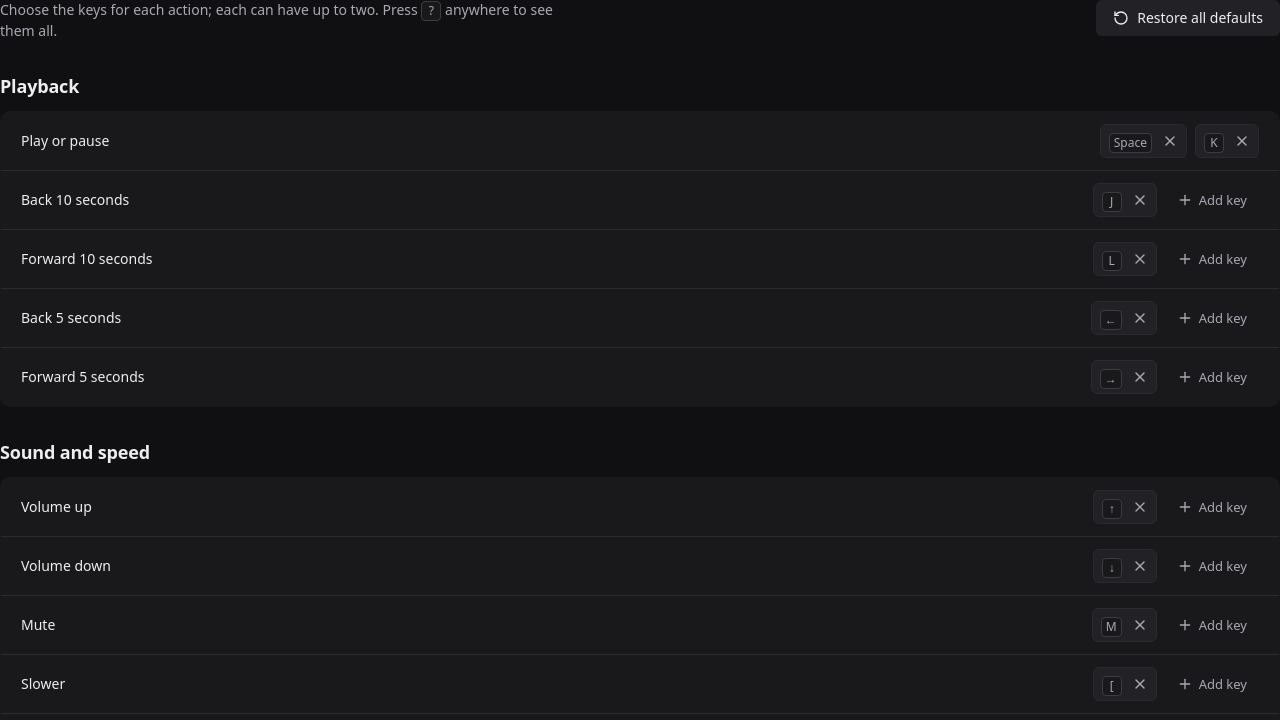
Test: ShortcutsSettings › restores every default after confirmation
Click the button named "Remove M from Mute".
click(1140, 625)  # box [1126,611,1154,639]
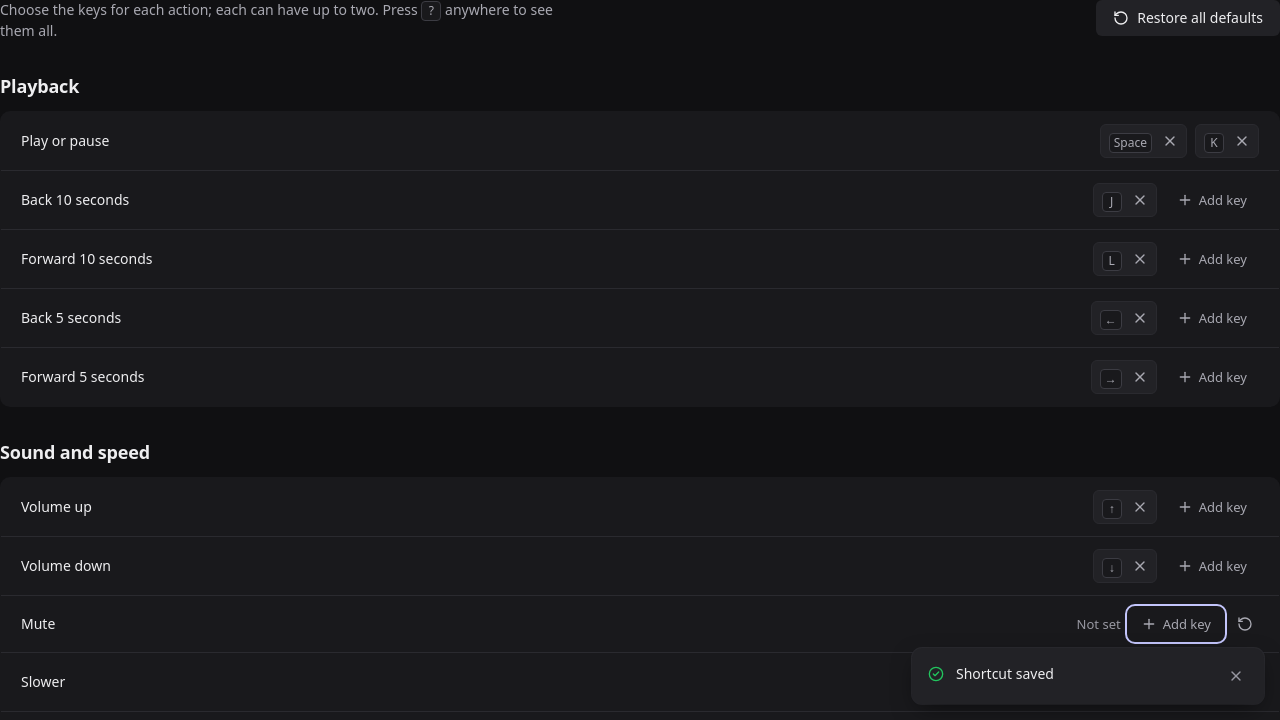
Click the button "Restore all defaults".
click(1188, 18)  # box [1096,0,1279,36]
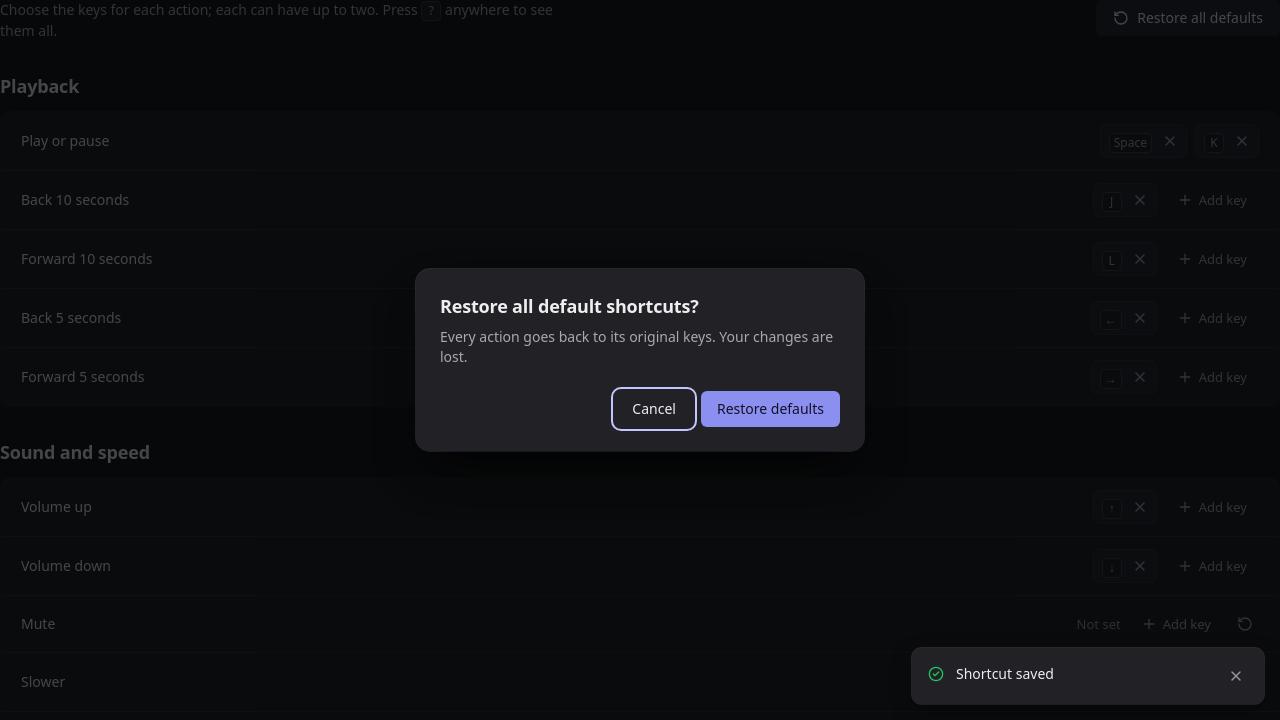
Click the button "Restore defaults".
click(770, 409)  # box [701,391,840,427]
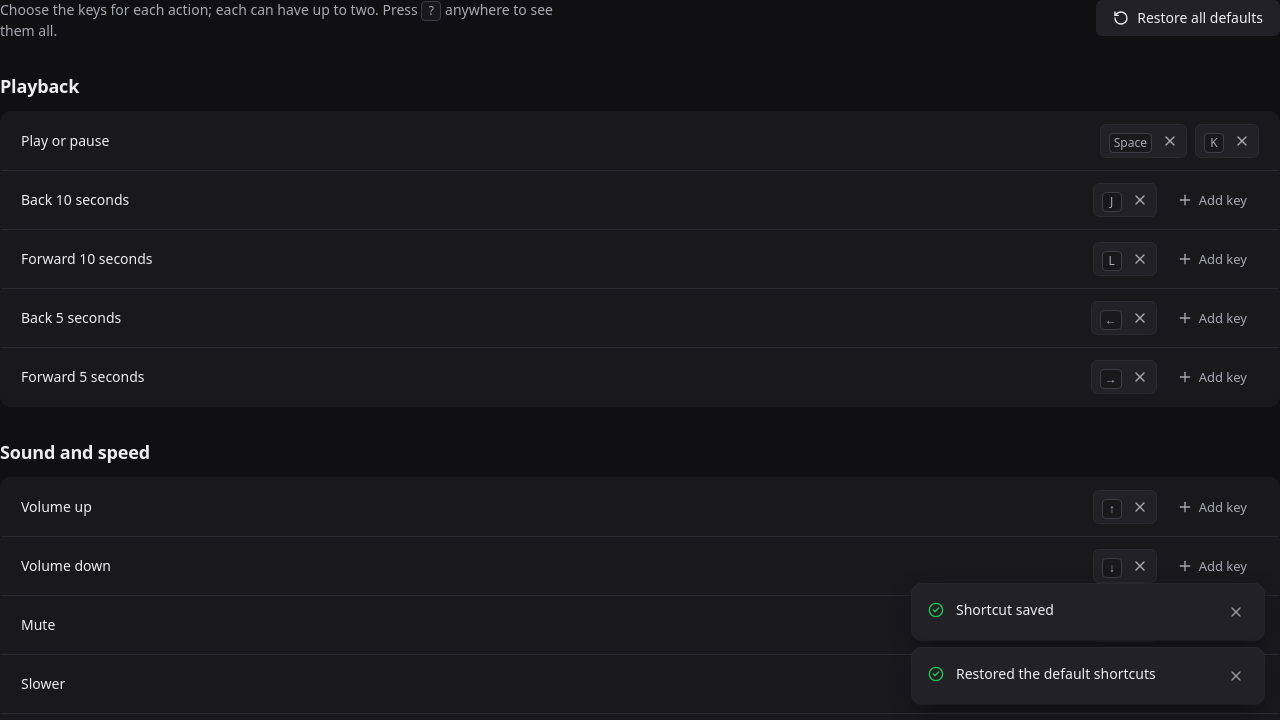
Now the text "Restored the default shortcuts" is shown, box [956,664,1156,683]
